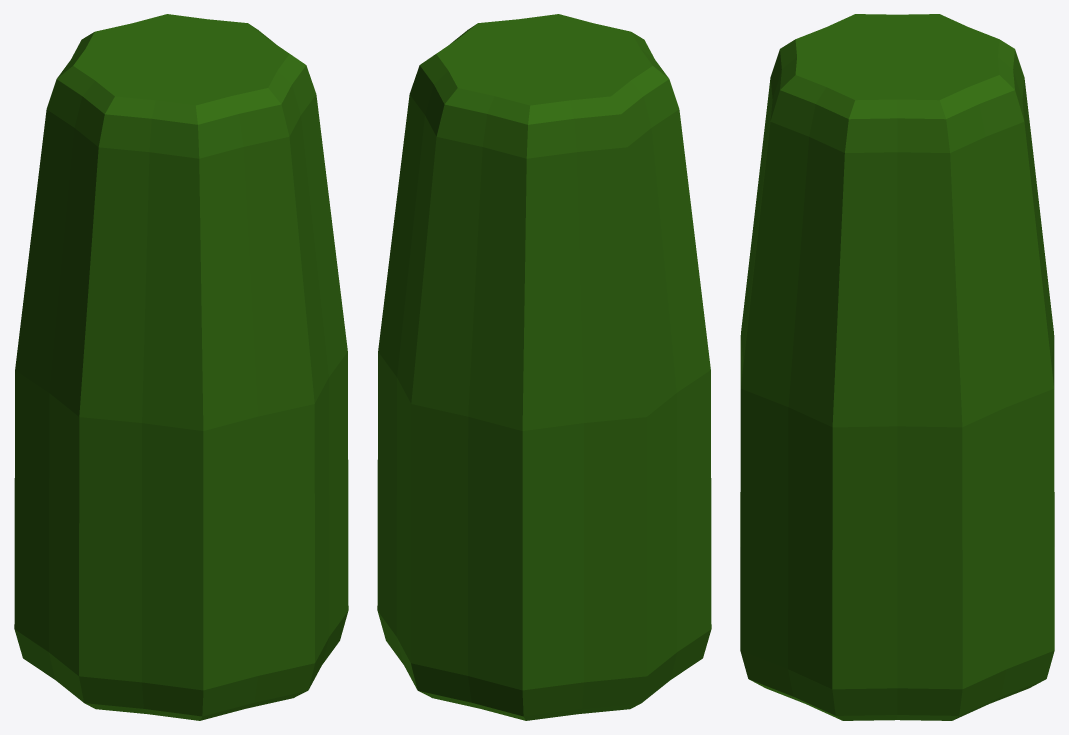
The model's file is Cactus_02_A.fbx.
The picture shows the model from 3 angles, left to right: view 1: azimuth 30°, elevation 25°; view 2: azimuth 150°, elevation 25°; view 3: azimuth 270°, elevation 25°; orthographic projection.
Visible parts, largest first — view 1: Cactus_02_A; view 2: Cactus_02_A; view 3: Cactus_02_A.
Part boxes in pixels (<box>): Cactus_02_A: <box>14,14,348,720</box>; Cactus_02_A: <box>377,14,711,720</box>; Cactus_02_A: <box>740,14,1054,720</box>.
Size of the model in its own units: 34.11 by 72.8 by 34.11.
